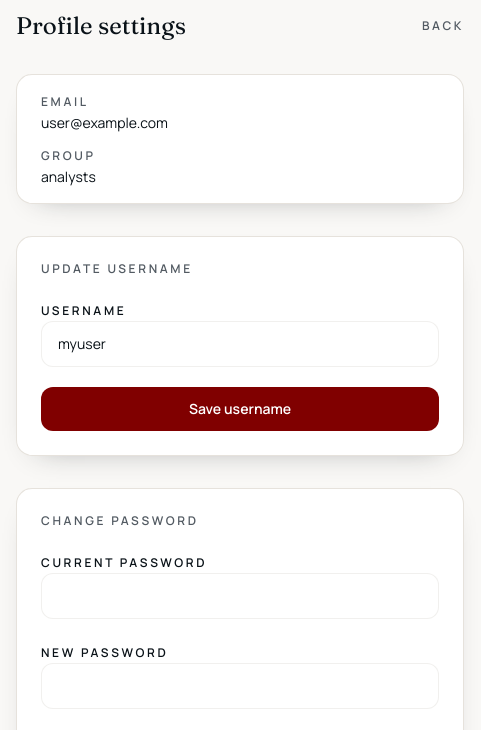
Scenario: ProfilePage – update username › shows an error message when updateMe rejects
Expected: the field labelled "Username" is shown, [41,321,439,367]
Click the button "Save username" at x=240, y=409, box [41,387,439,431]
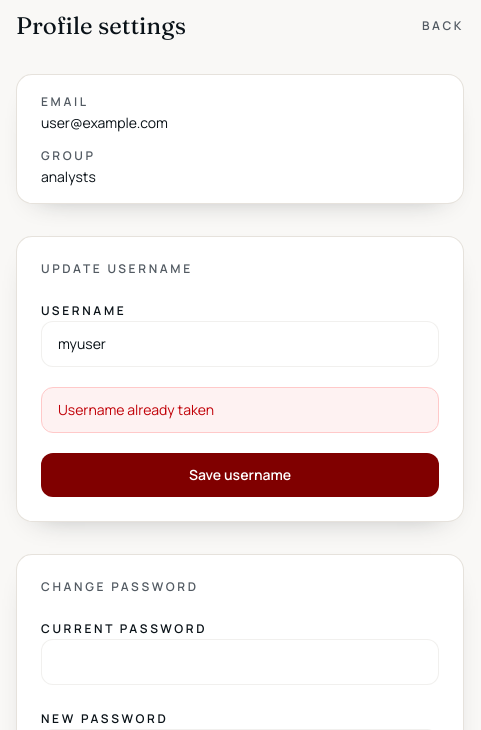
Now the text "Username already taken" is shown, box [41,387,439,433]
